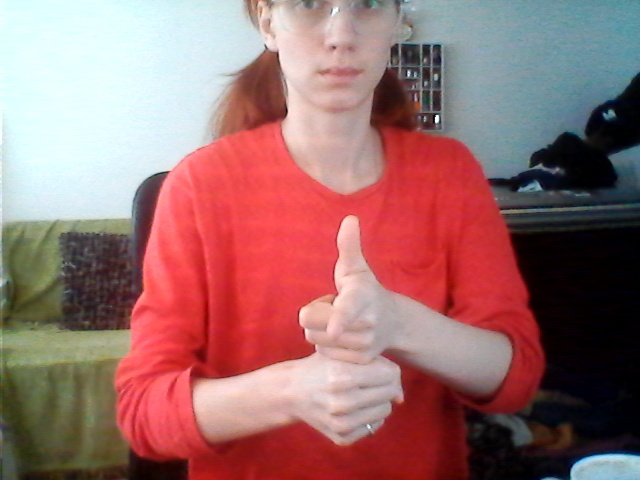kamera: (288, 209, 424, 457)
